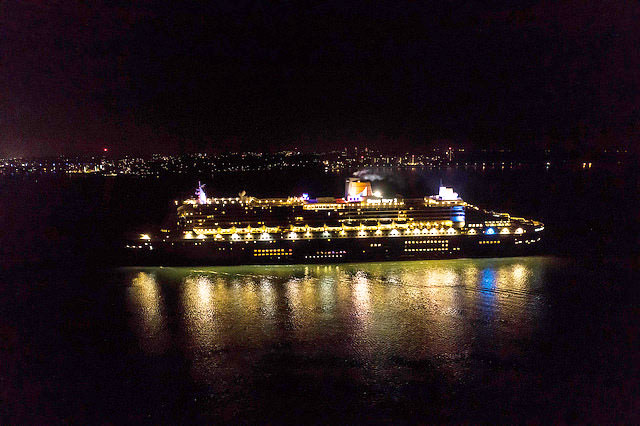cruise_ship: (125, 172, 544, 268)
